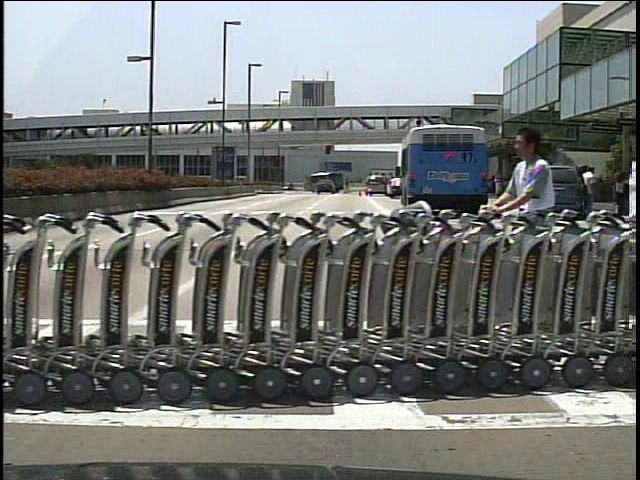person: (482, 126, 569, 363), (573, 163, 591, 221), (580, 165, 601, 214), (343, 176, 351, 196)
